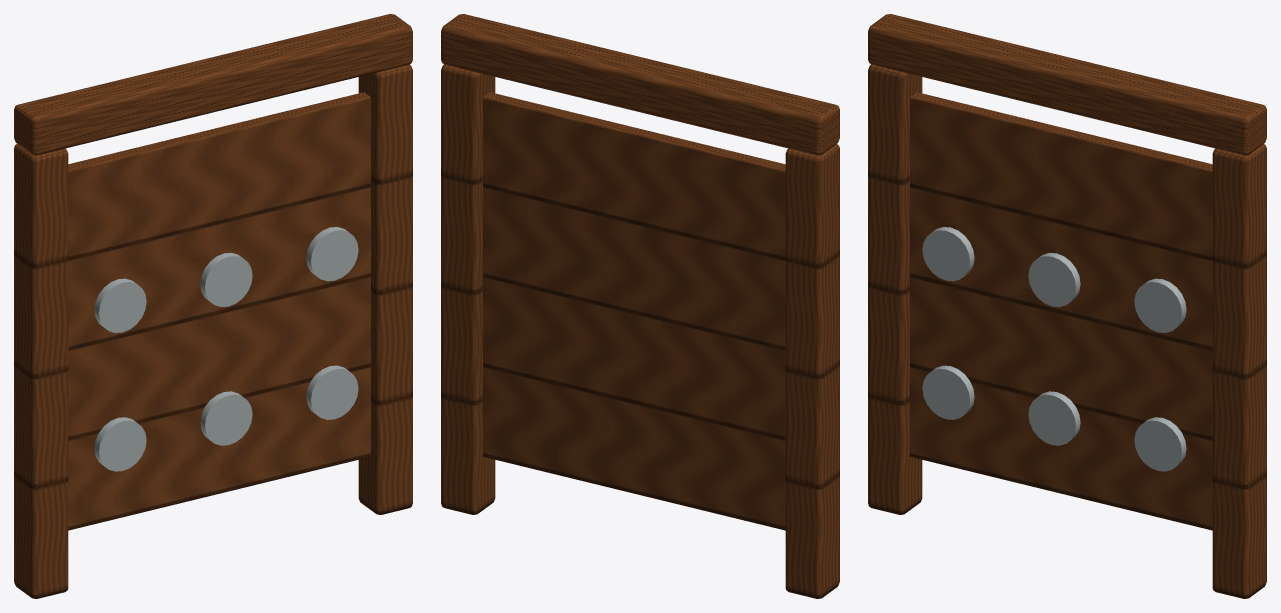
3 views of the same model, side by side, from view 1: azimuth 30°, elevation 25°; view 2: azimuth 150°, elevation 25°; view 3: azimuth 330°, elevation 25° (orthographic).
Visible parts, largest first — view 1: barter-token-board; view 2: barter-token-board; view 3: barter-token-board.
Boxes of the visible parts, <box> form: barter-token-board: <box>14,14,412,598</box>; barter-token-board: <box>441,14,839,598</box>; barter-token-board: <box>868,14,1266,598</box>.
Size of the model in its own units: 0.72 by 0.87 by 0.085.
Materials: 3 (1 with a texture image).
